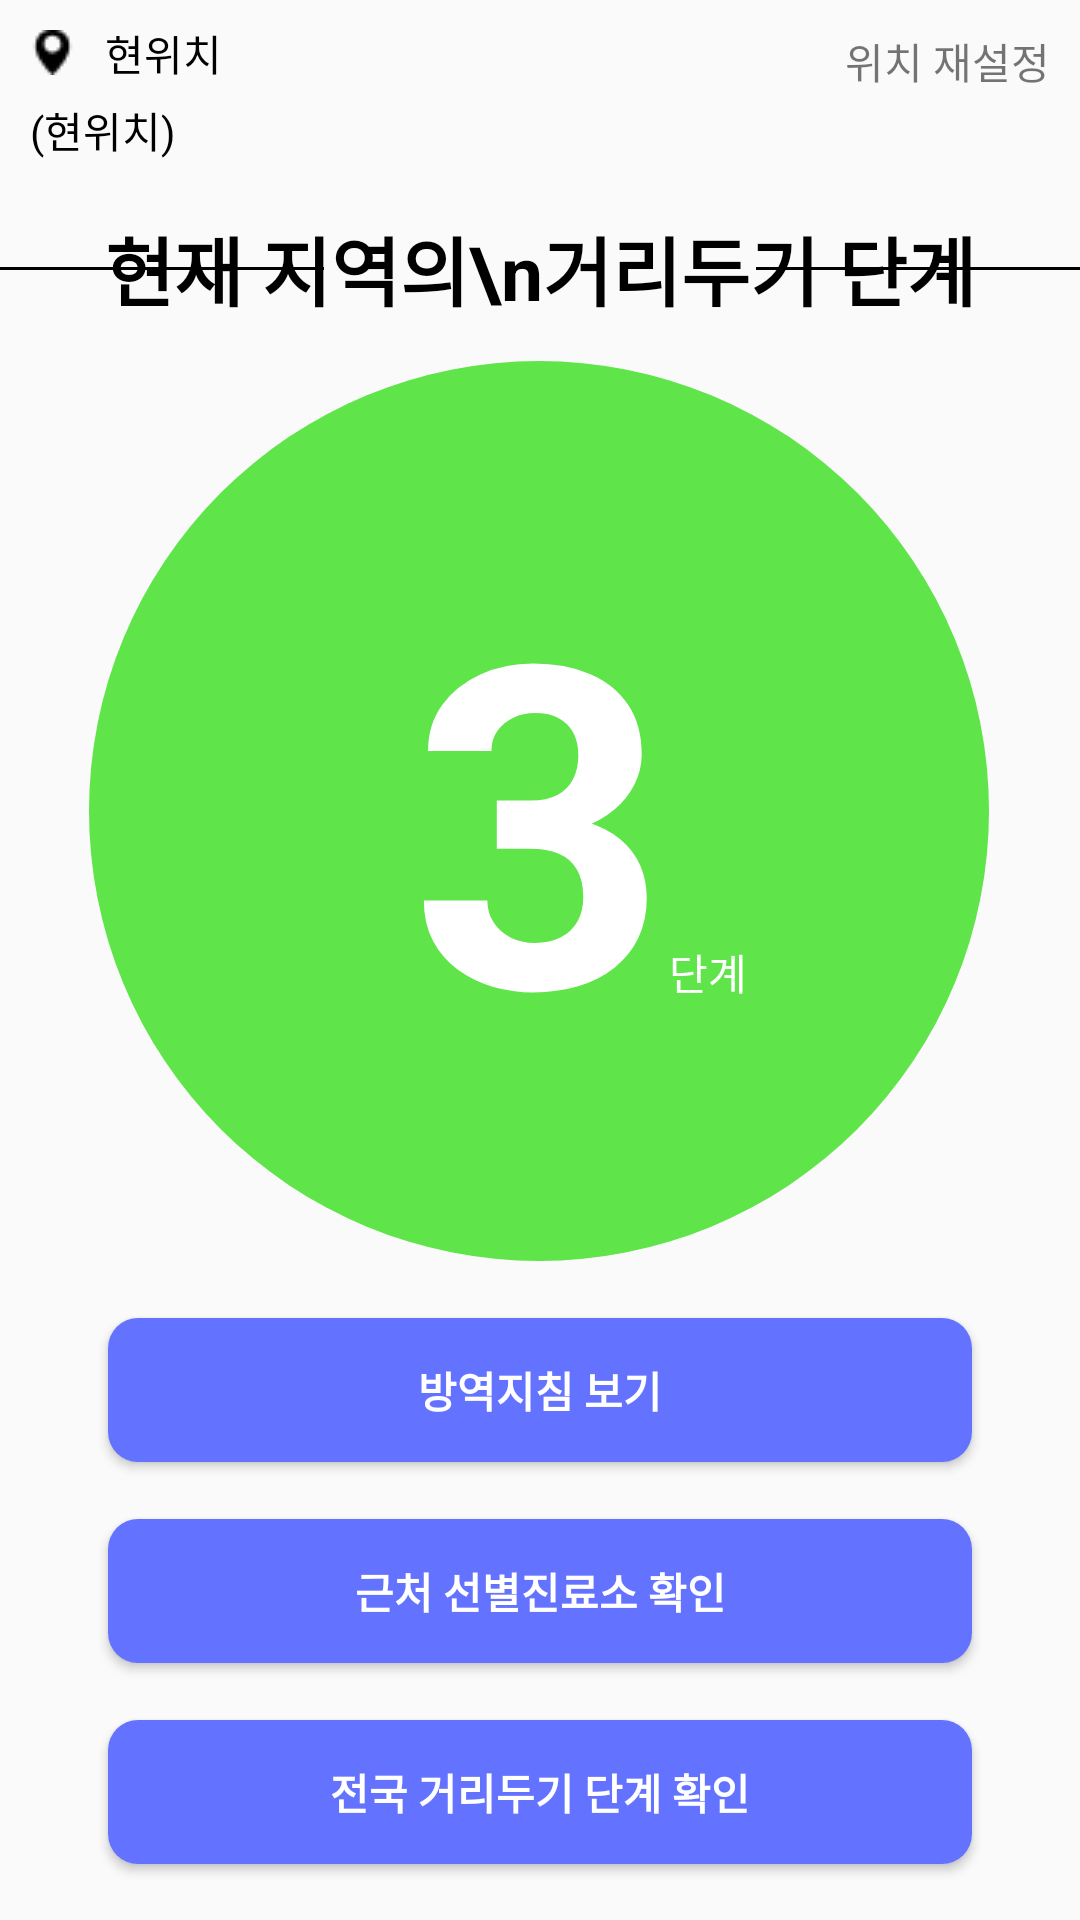

Screen size 1080px×1920px. Icon name, then its center in pixels as point (x, y):
location: point (52, 52)
